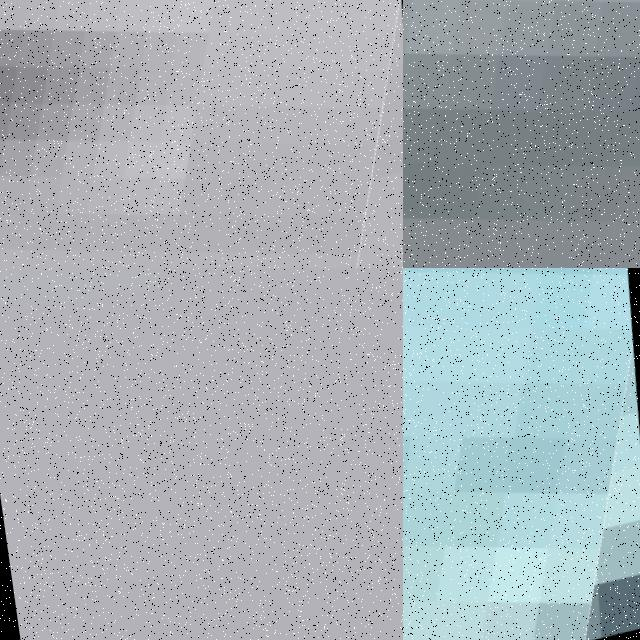0: (0, 0, 403, 268)
drone: (403, 268, 640, 640), (403, 0, 640, 268)
